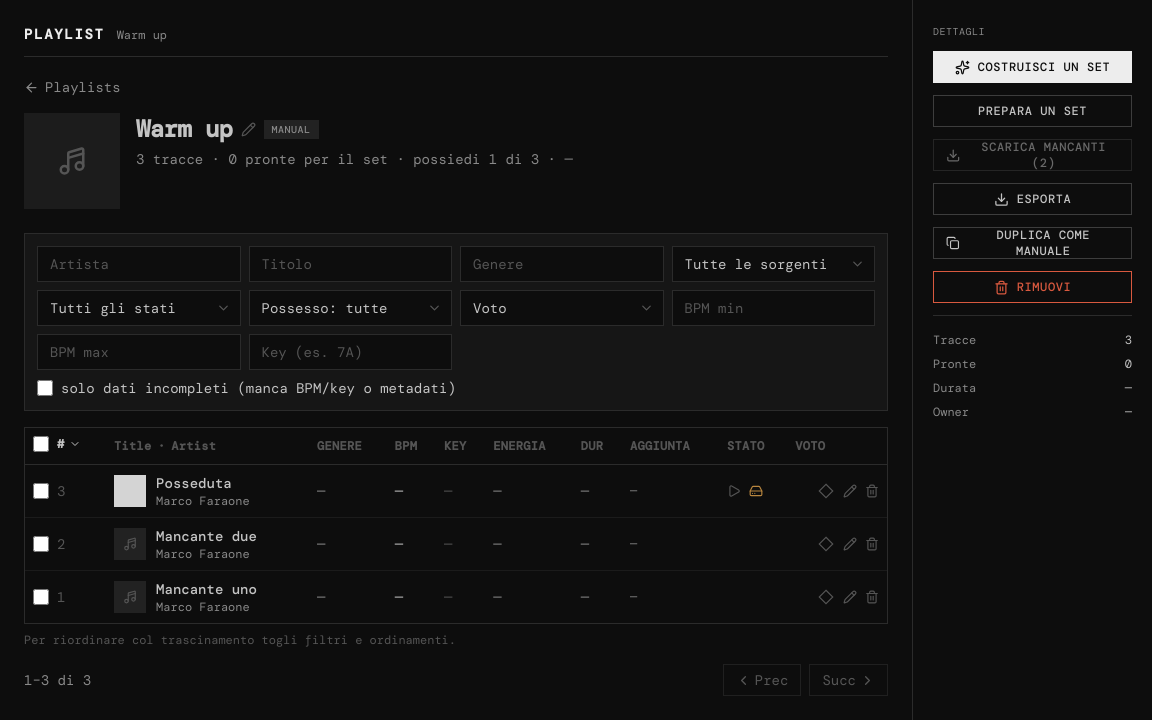
Test: «Scarica» nella barra di selezione del dettaglio playlist › slskd non configurato spegne il pulsante
Click the checkbox named "Seleziona tutte le tracce visibili": (41, 444) [33,436,49,452]
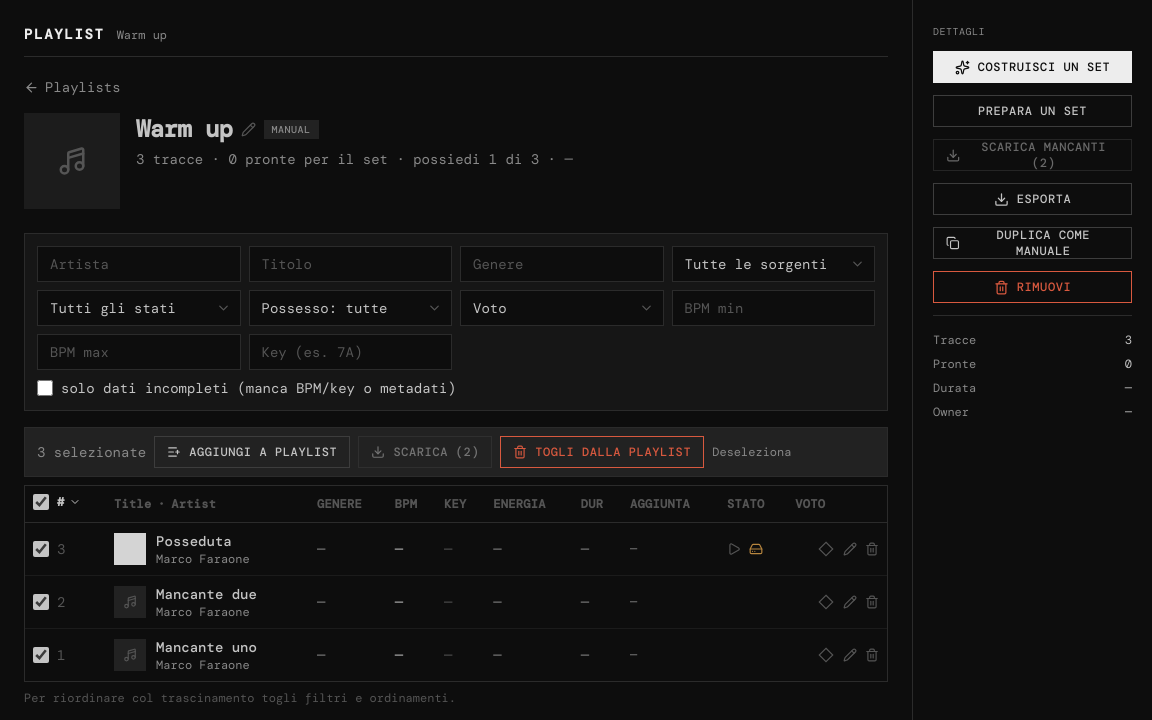
expect the button "Scarica (2)" is disabled: met, box [358,436,492,468]
